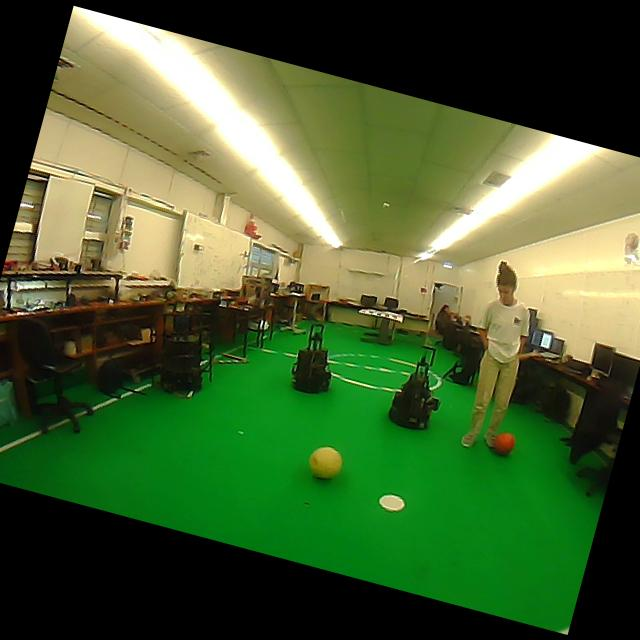ball: (309, 446, 342, 479), (492, 432, 515, 456)
robot: (388, 347, 439, 429), (160, 314, 212, 394), (291, 325, 331, 393)
